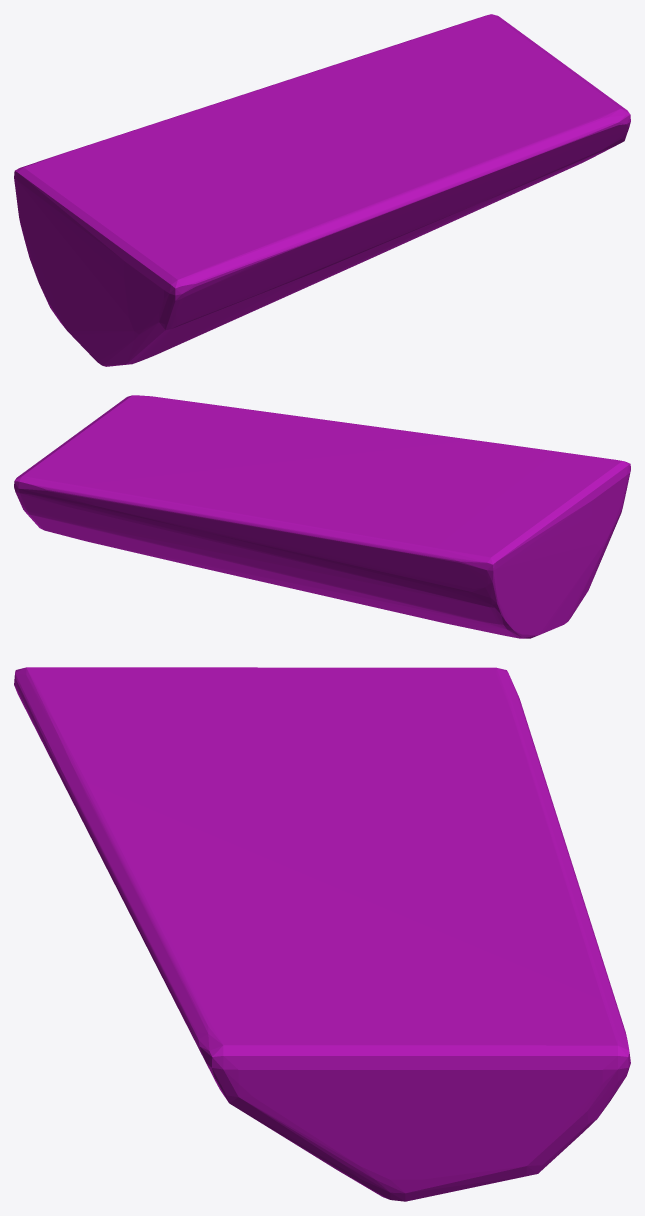
Rendered from right-elbow-0_part_22.obj.
The picture shows the model from 3 angles, top to bottom: view 1: azimuth 30°, elevation 25°; view 2: azimuth 150°, elevation 25°; view 3: azimuth 270°, elevation 25°; orthographic projection. The views are drawn at different scales.
Bounding box in the file's own units: 0.0556 × 0.014 × 0.037.
